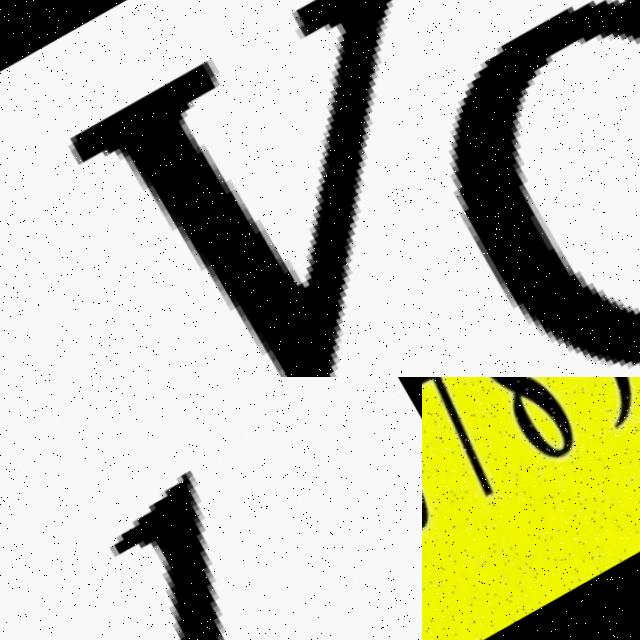7: (422, 377, 534, 549)
8: (422, 377, 596, 494)
9: (485, 377, 640, 463)
D: (422, 0, 640, 377)
I: (0, 377, 422, 640)
Y: (0, 0, 422, 377)
